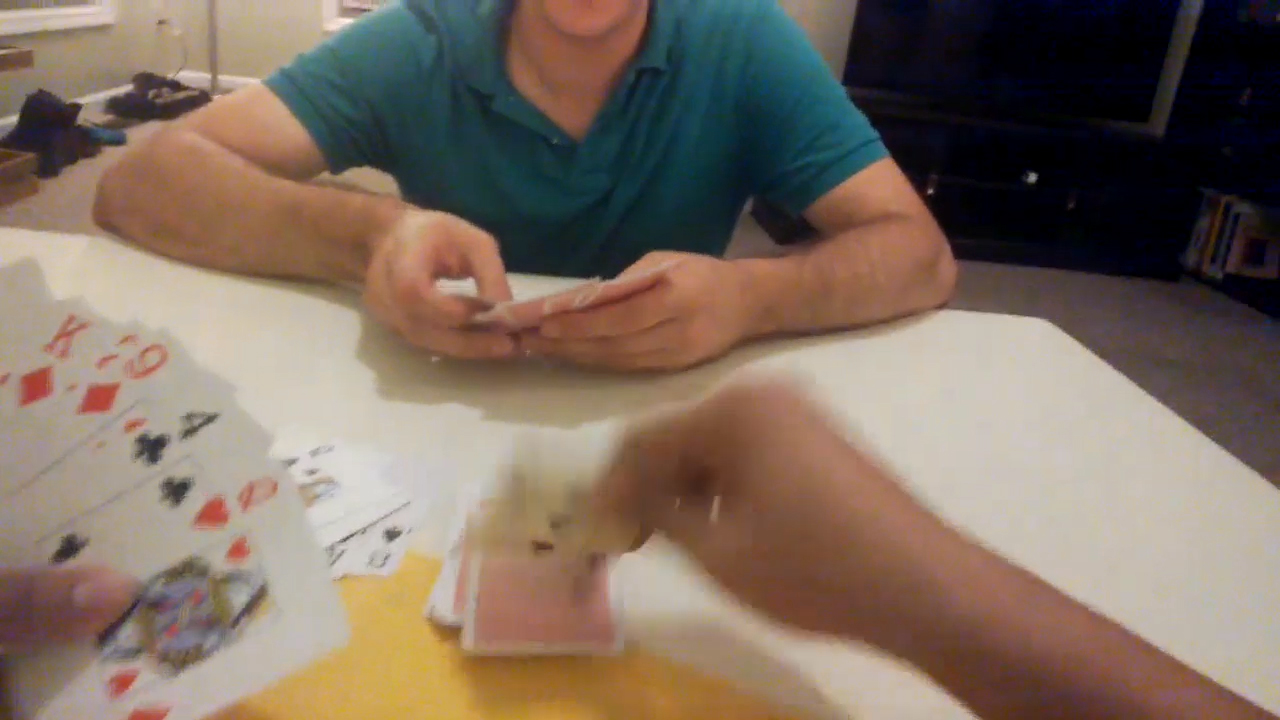hand: (594, 379, 960, 636), (529, 254, 766, 372), (355, 201, 526, 363), (0, 568, 132, 640)
